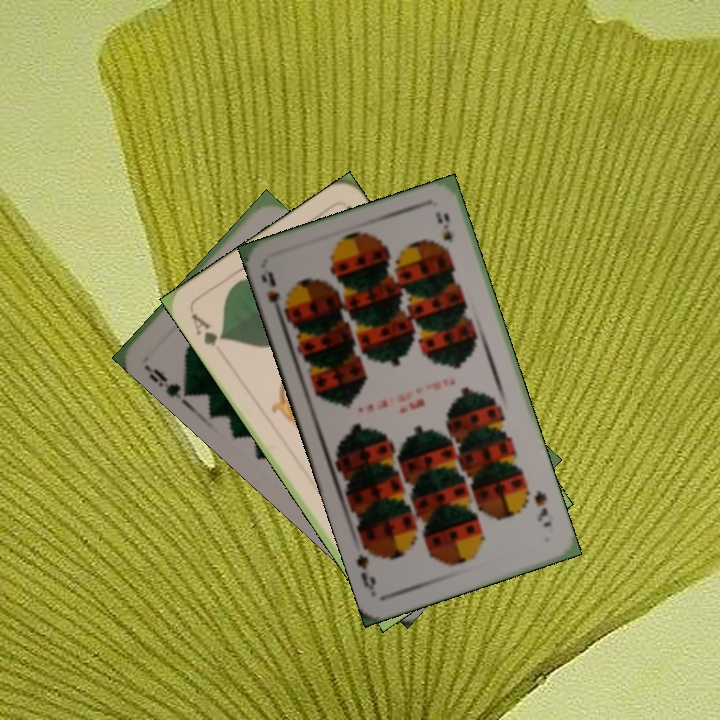G9: (140, 360, 191, 405)
GA: (186, 308, 227, 349)
S9: (257, 267, 294, 321), (530, 486, 554, 530)
